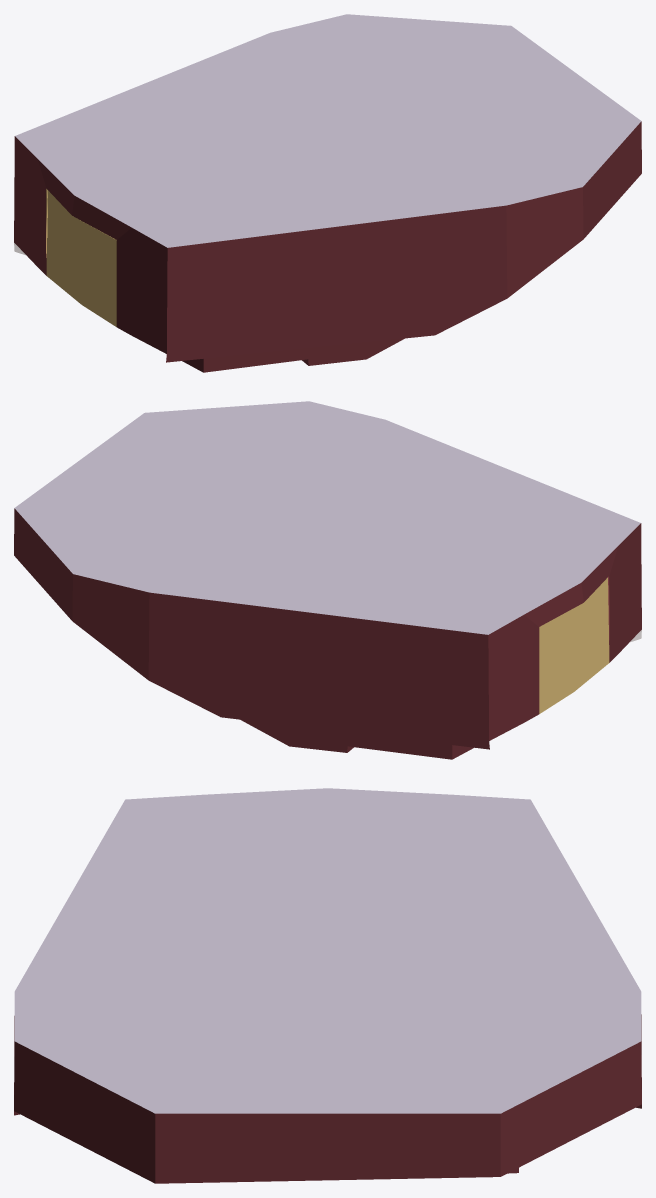
Rendered from GewandHausRest.fbx.
3 renders of one model, top to bottom at view 1: azimuth 30°, elevation 25°; view 2: azimuth 150°, elevation 25°; view 3: azimuth 270°, elevation 25°, orthographic. The views are drawn at different scales.
Visible parts, largest first — view 1: Raum; view 2: Raum; view 3: Raum.
Part boxes in pixels (x1,y1,x2,y2): Raum: (14,14,641,372); Raum: (14,401,641,759); Raum: (14,788,641,1183).
Size of the model in its own units: 5392 by 1798 by 4377.
